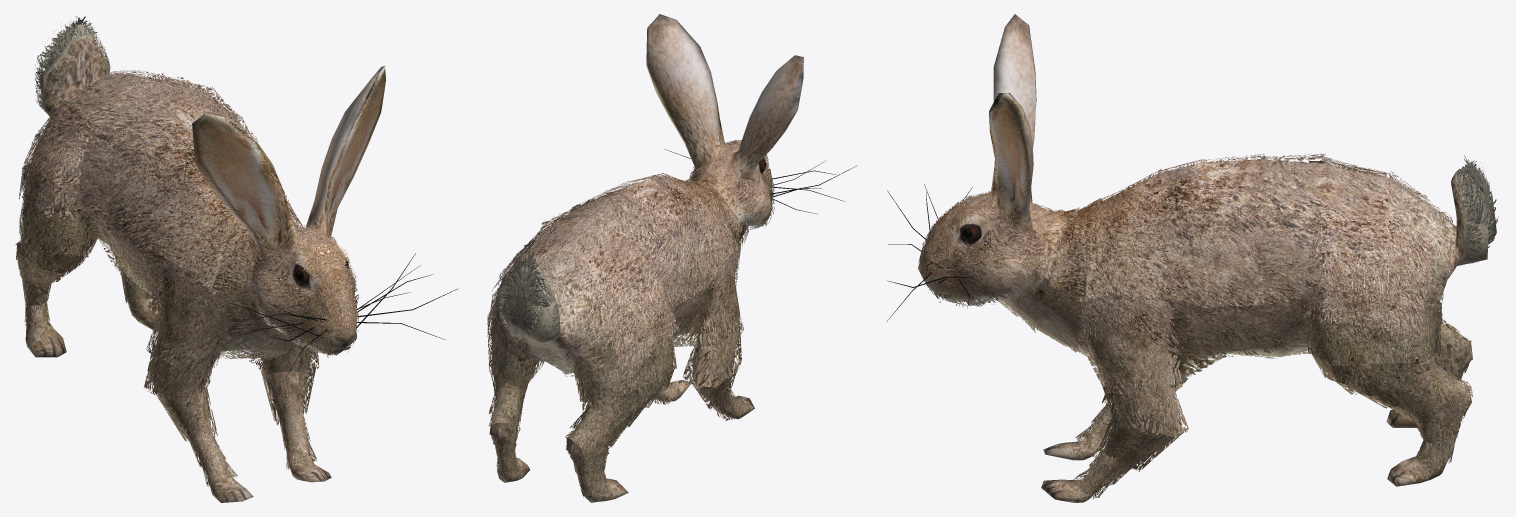
Rendered from rabbit20027.obj.
The picture shows the model from 3 angles, left to right: view 1: azimuth 30°, elevation 25°; view 2: azimuth 150°, elevation 25°; view 3: azimuth 270°, elevation 25°; orthographic projection. The views are drawn at different scales.
Parts seen in each view (by area): view 1: Rabbit, Fur; view 2: Rabbit, Fur; view 3: Fur, Rabbit.
Part boxes in pixels (x1,y1,x2,y2): Rabbit: [17, 36, 458, 502]; Fur: [15, 16, 359, 486]; Rabbit: [491, 14, 857, 502]; Fur: [487, 140, 774, 497]; Fur: [918, 153, 1498, 498]; Rabbit: [887, 14, 1490, 502].
Bounding box in the file's own units: 7.46 × 14.73 × 19.27.
